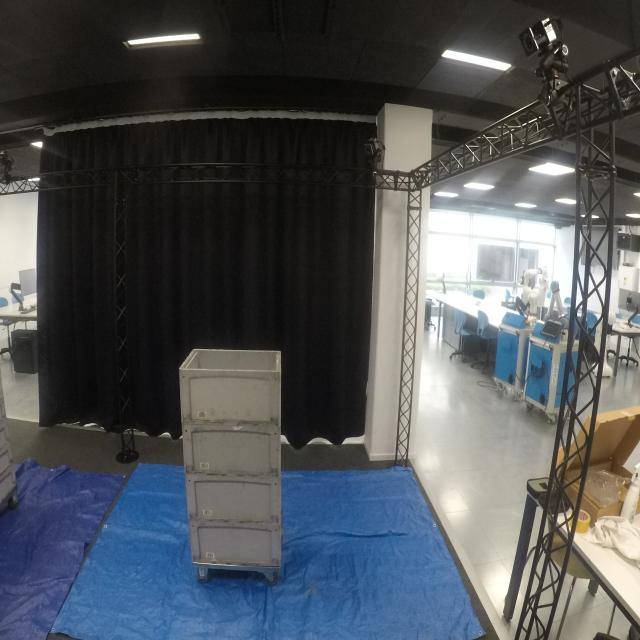Box4G: (179, 347, 286, 427), (180, 423, 286, 479), (187, 515, 284, 569), (182, 474, 286, 524)
